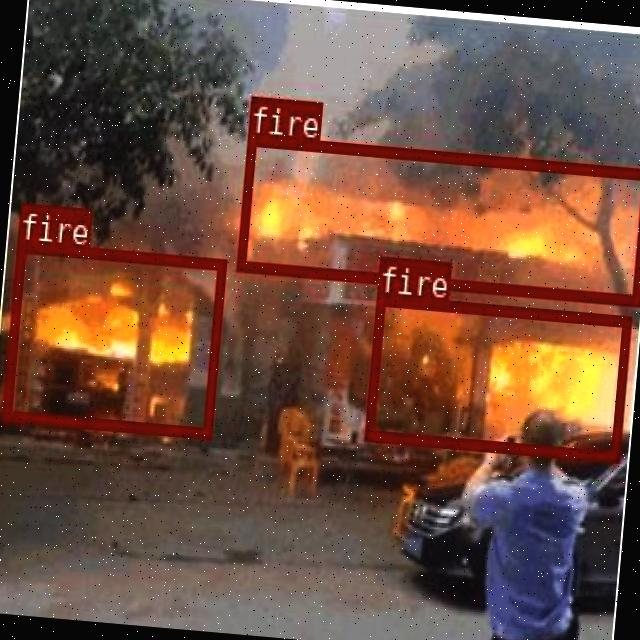fire: (235, 132, 640, 304), (362, 292, 628, 461), (0, 240, 223, 436)
